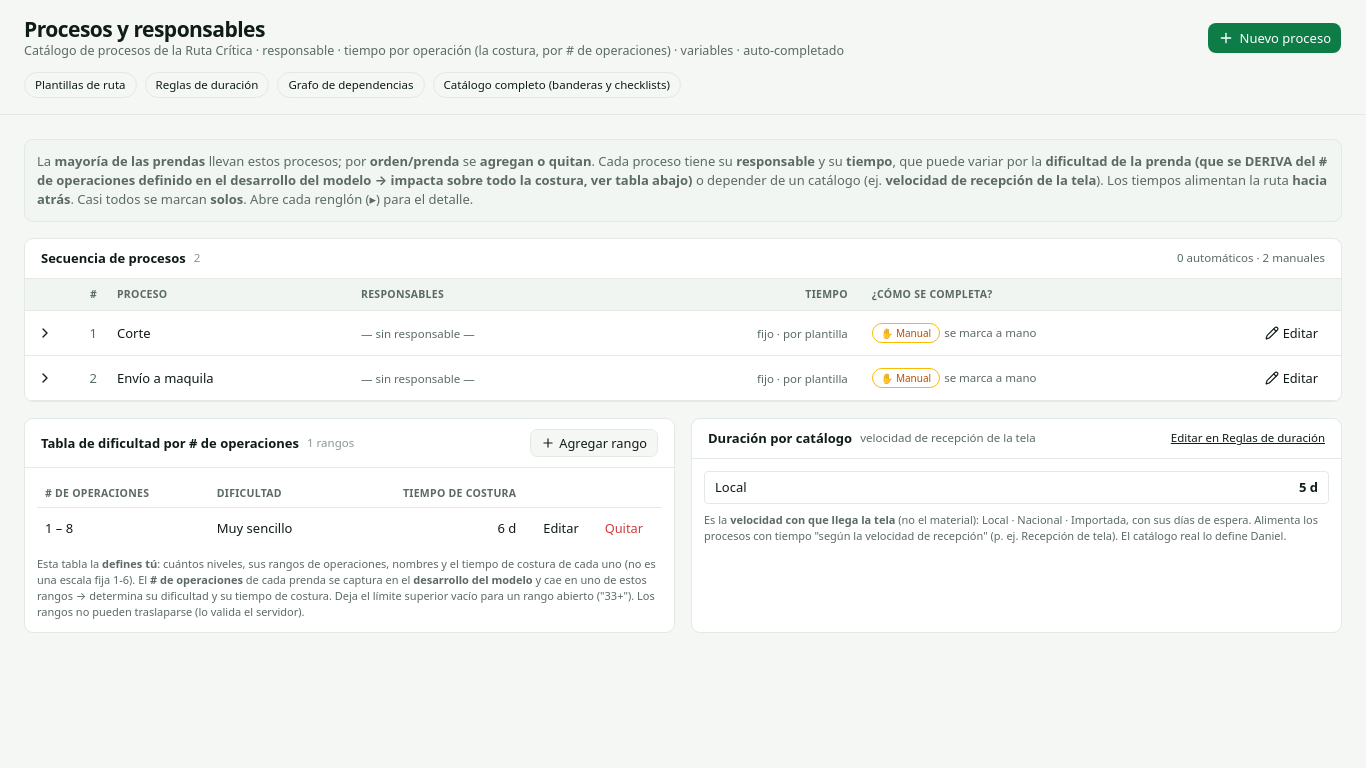
Test: <ProcesosResponsablesPagina> › expande un renglón: "Espera a" con chips y "Detona →" DERIVADO de la vista inversa
Expande "Corte" (primer renglón): no espera a nadie y DETONA el envío.
What coordinates should you click on to do the following:
click the button with test id "pyr-expandir" in the row of "Corte"
I would click on:
 (45, 333)
Its box is [33,321,57,345].
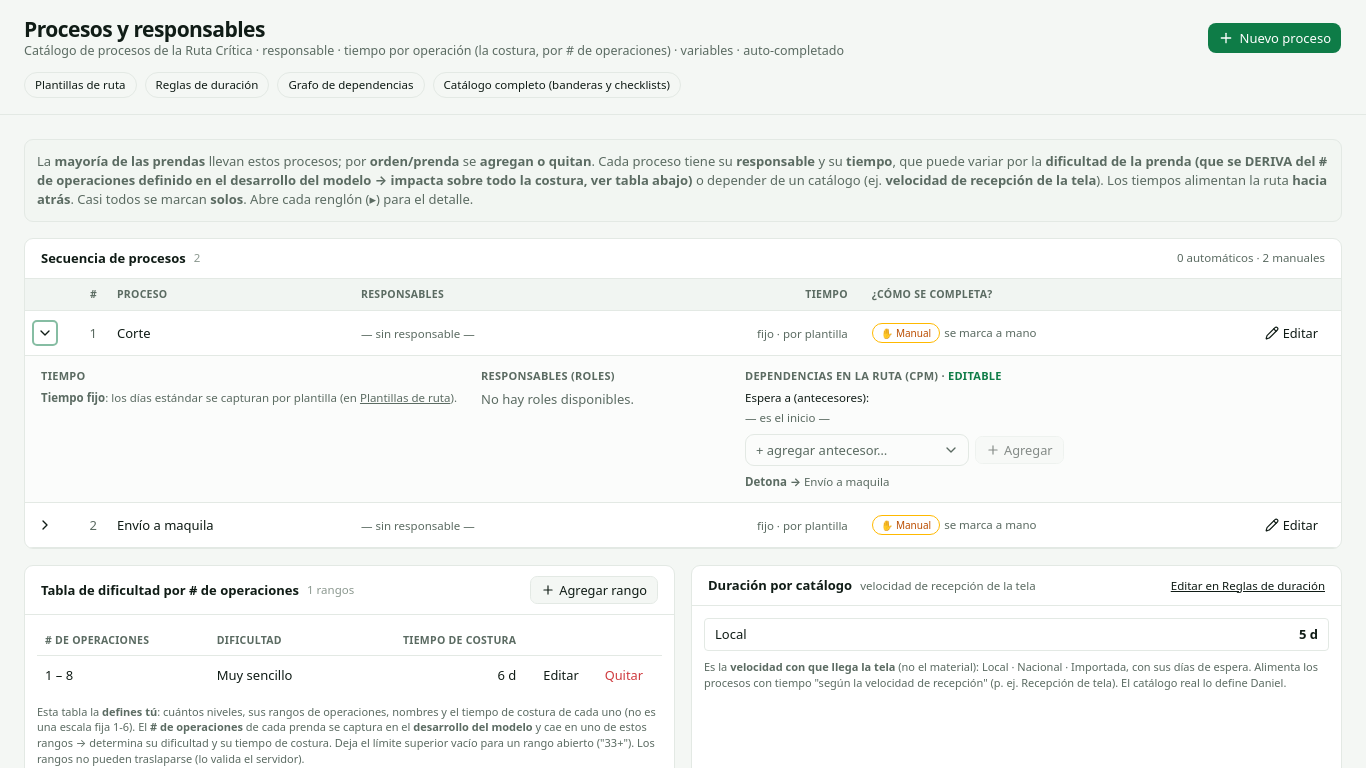
Check: the element with test id "pyr-dependencias" shows "— es el inicio —", box [745,410,830,425]
Check: the element with test id "pyr-dependencias" shows "Envío a maquila", box [804,474,889,489]
